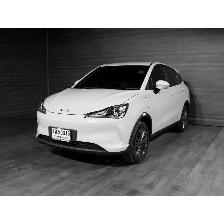EV: (34, 61, 192, 166)
